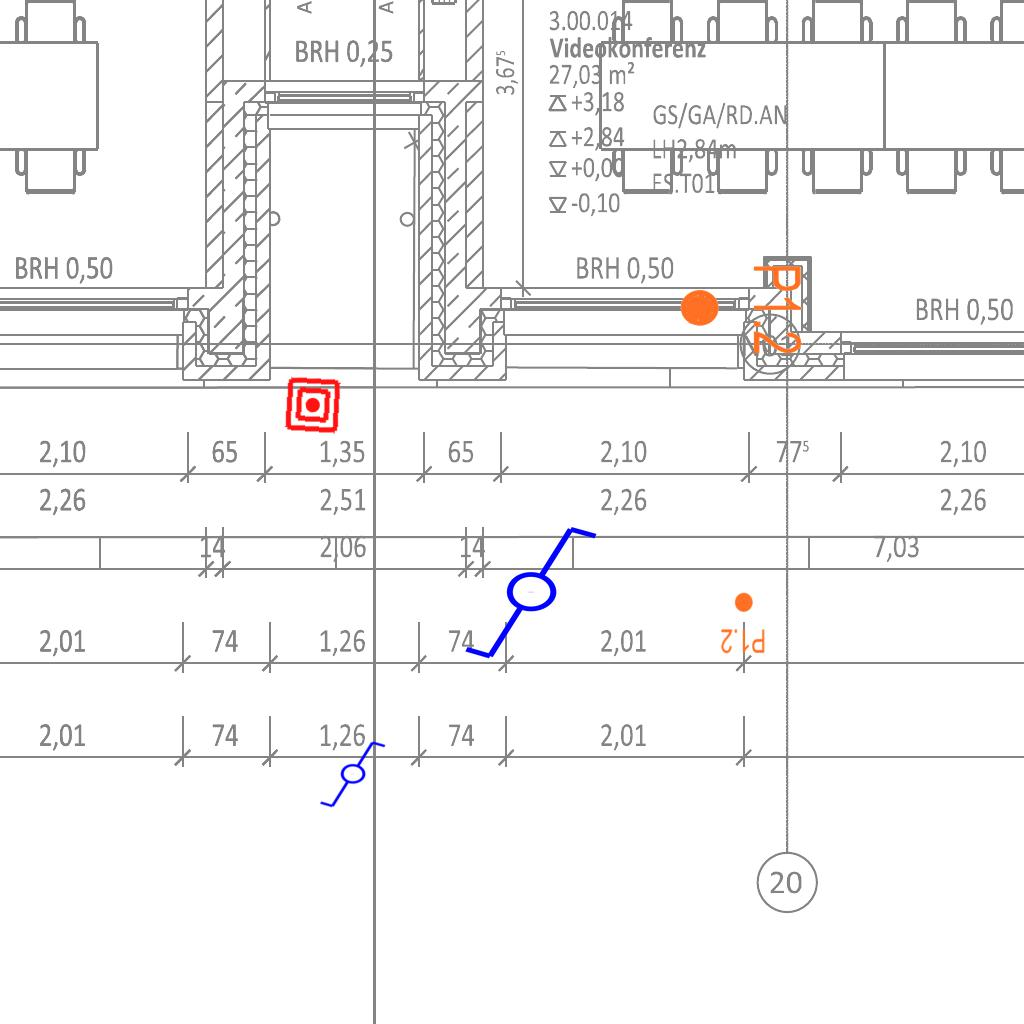Downlight_LED_Einbauleuchten_Flur: (677, 263, 805, 356), (720, 591, 766, 655)
NAM-Nichtautomatischer_Melder: (283, 375, 343, 435)
Wechselschalter: (461, 522, 618, 666), (318, 739, 396, 811)
